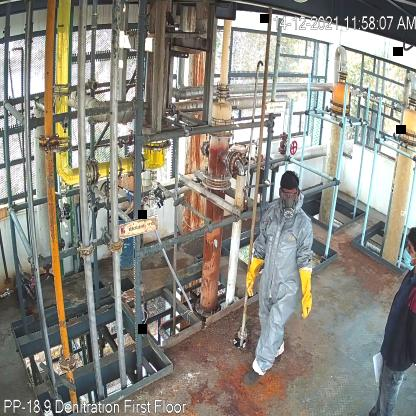goggles: (280, 188, 299, 200)
mask: (279, 196, 297, 221)
